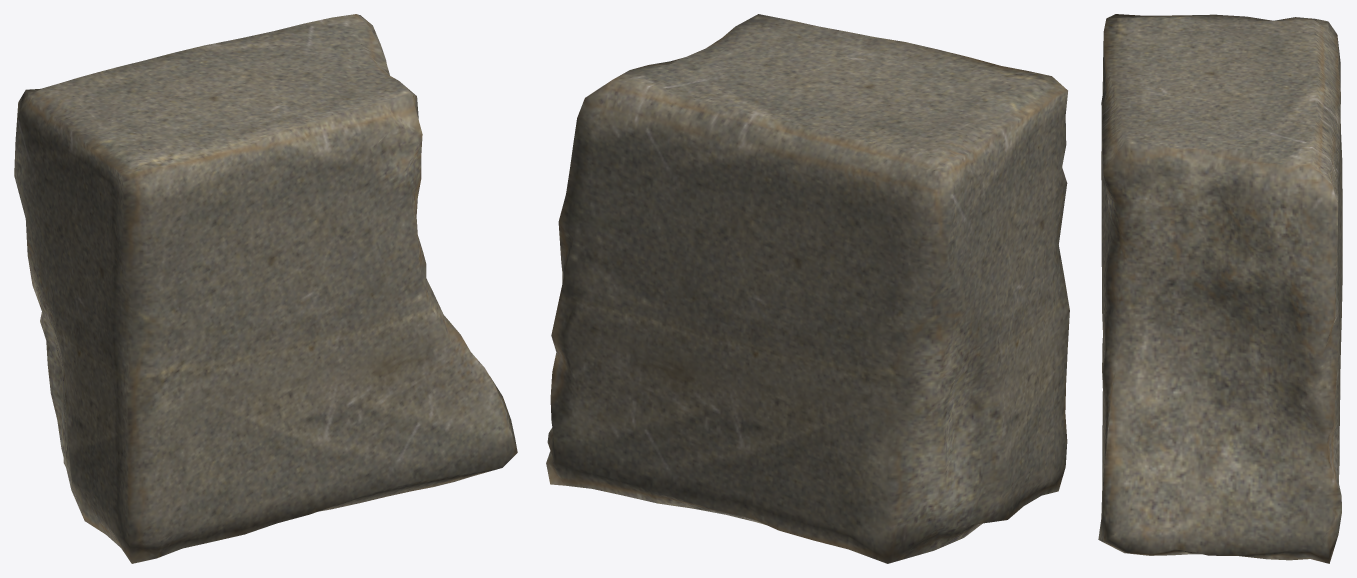
Rendered from Brick5_Gold.fbx.
The picture shows the model from 3 angles, left to right: view 1: azimuth 30°, elevation 25°; view 2: azimuth 150°, elevation 25°; view 3: azimuth 270°, elevation 25°; orthographic projection. The views are drawn at different scales.
Visible parts, largest first — view 1: Brick5; view 2: Brick5; view 3: Brick5.
Boxes of the visible parts, x1,y1,x2,y2 form: Brick5: (14,14,517,563); Brick5: (546,14,1069,563); Brick5: (1098,14,1342,563).
Size of the model in its own units: 8.14 by 7.93 by 4.64.
